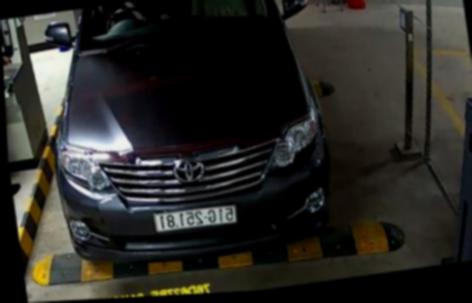License_Plate: (151, 201, 239, 237)
